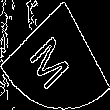M_NE: (30, 22, 80, 88)
